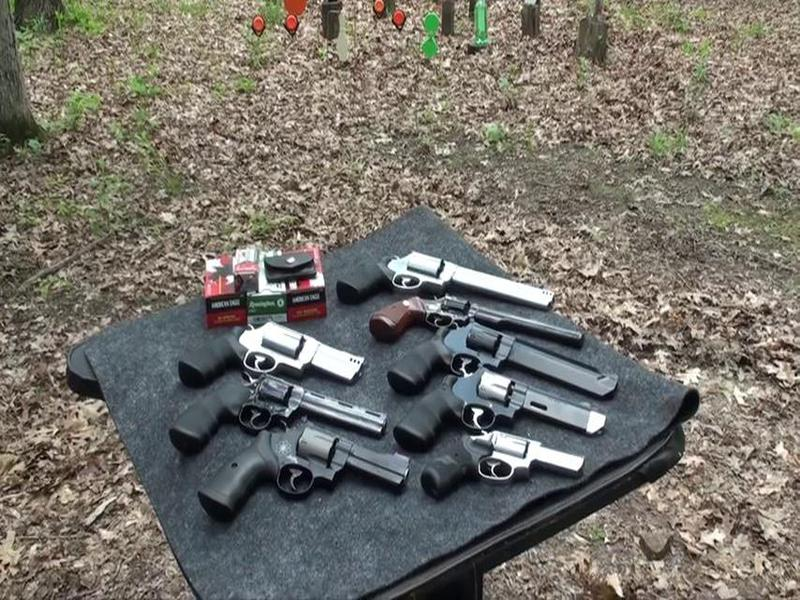Revolver: (377, 316, 646, 412), (184, 423, 421, 528), (159, 304, 377, 392), (357, 244, 556, 316), (423, 423, 584, 500)
